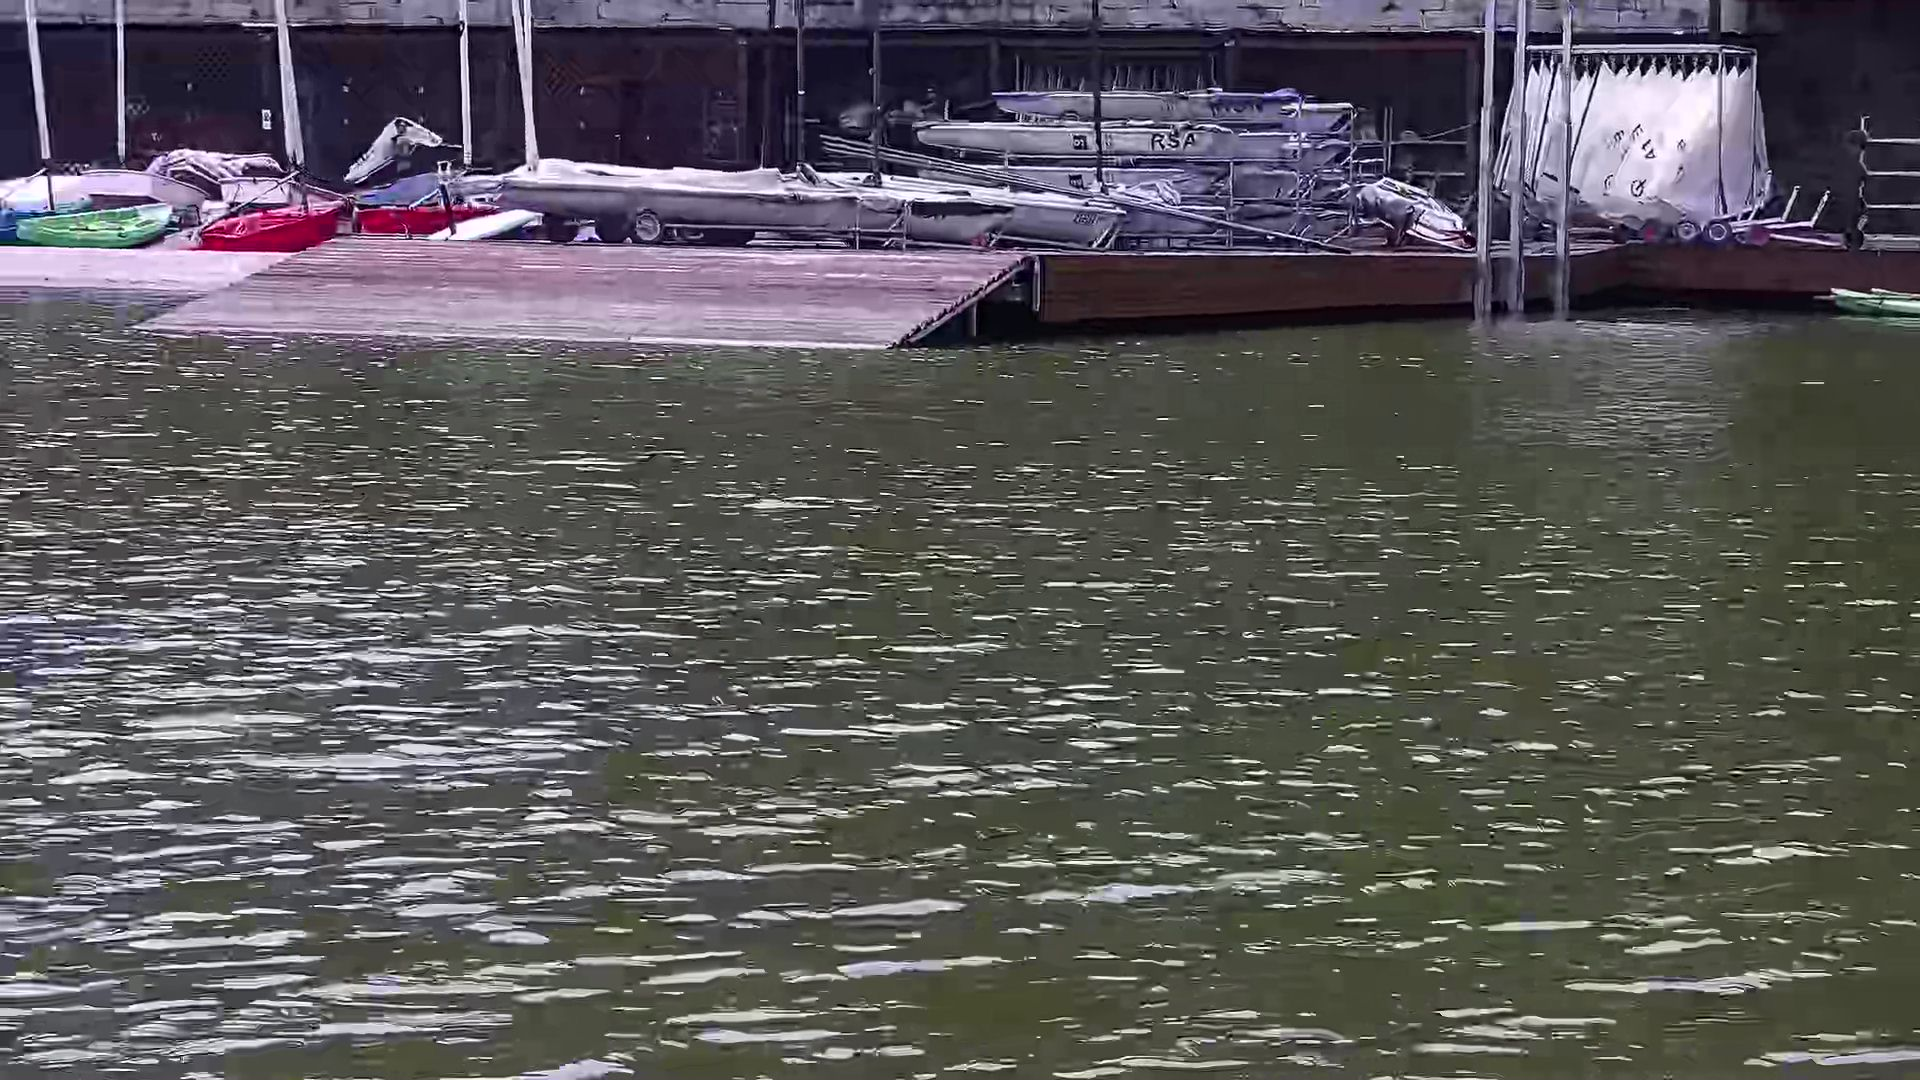harbor: (15, 84, 1876, 336)
